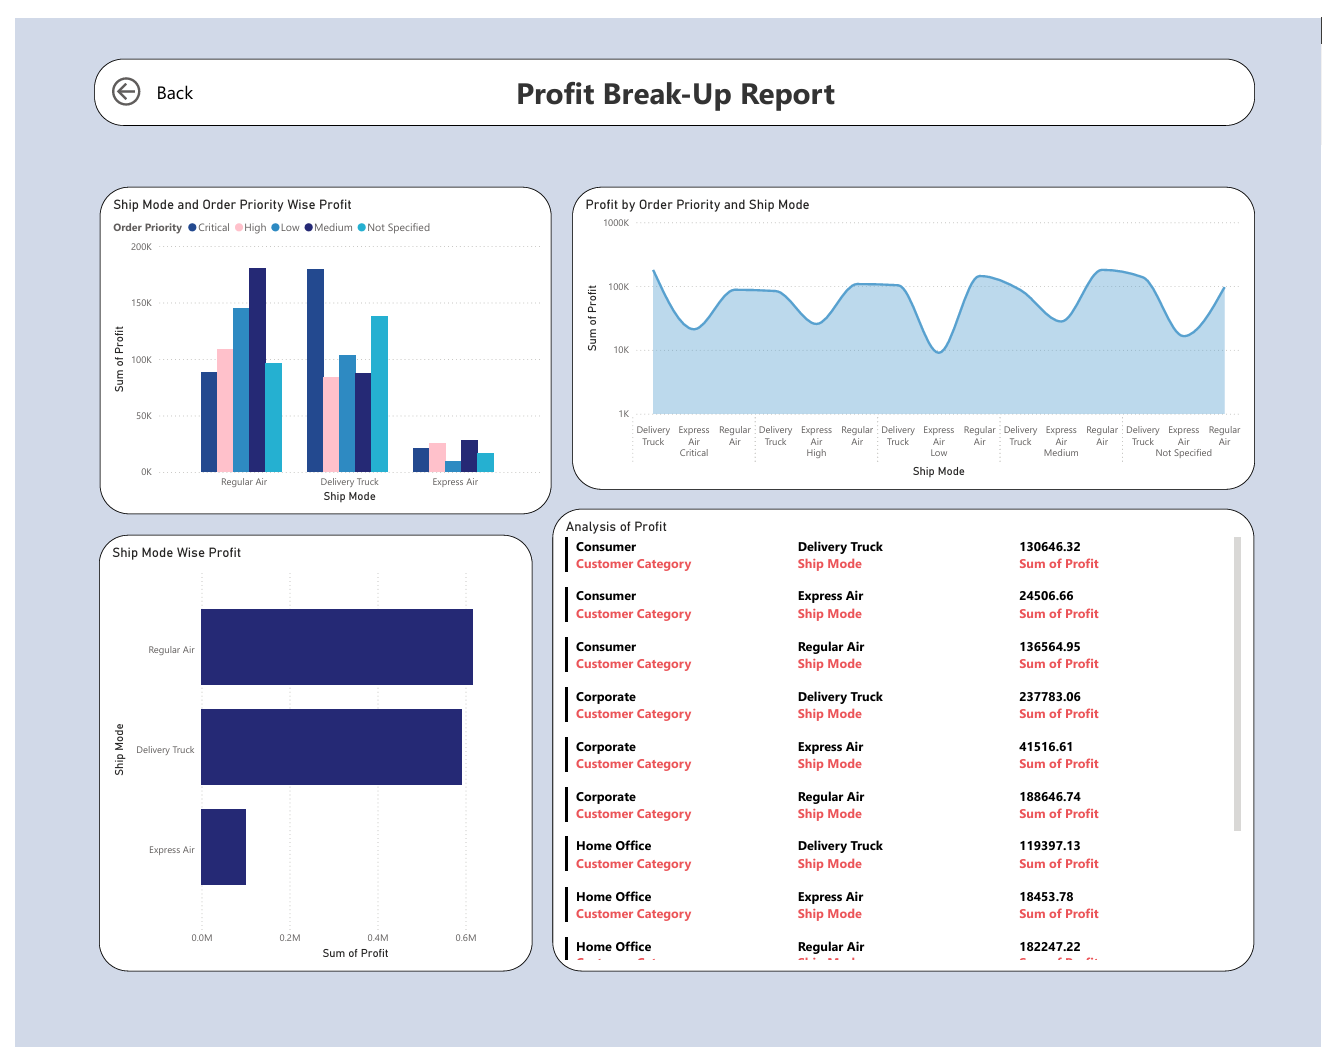

What the dashboard file says about the page in this screenshot:
{"tool":"powerbi","page":{"name":"Profit Report","canvas":[1650,1300],"ordinal":3},"visuals":[{"type":"clusteredColumnChart","title":"Ship Mode and Order Priority Wise Profit","fields":{"Category":["Raw Data.Ship Mode"],"Y":["Sum(KPI_Task.Profit)"],"Series":["Raw Data.Order Priority"]},"box":[106.7,213.3,571.1,413.3],"z":0},{"type":"areaChart","title":"Profit by Order Priority and Ship Mode","fields":{"Category":["Raw Data.Order Priority","Raw Data.Ship Mode"],"Y":["Sum(KPI_Task.Profit)"]},"box":[704.4,213.3,862.2,382.2],"z":1000},{"type":"barChart","title":"Ship Mode Wise Profit","fields":{"Y":["Sum(KPI_Task.Profit)"],"Category":["Raw Data.Ship Mode"]},"box":[106.3,652.5,547.5,552.5],"z":2000},{"type":"multiRowCard","title":"Analysis of Profit","fields":{"Values":["Raw Data.Customer Category","Raw Data.Ship Mode","Sum(KPI_Task.Profit)"]},"box":[678.8,620,887.5,585],"z":3000},{"type":"textbox","box":[100,51.1,1466.7,84.4],"z":4000},{"type":"actionButton","box":[107.5,60,130,65],"z":5000}]}

Visuals, with their boxes in screenshot pixels (x1, y1, x2, y2), scaled from the page's 1650x1300 canvas onto the 1340x1061 screenshot:
"Ship Mode and Order Priority Wise Profit" clusteredColumnChart: region(87, 174, 550, 511)
"Profit by Order Priority and Ship Mode" areaChart: region(572, 174, 1272, 486)
"Ship Mode Wise Profit" barChart: region(86, 533, 531, 983)
"Analysis of Profit" multiRowCard: region(551, 506, 1272, 983)
textbox: region(81, 42, 1272, 111)
actionButton: region(87, 49, 193, 102)
